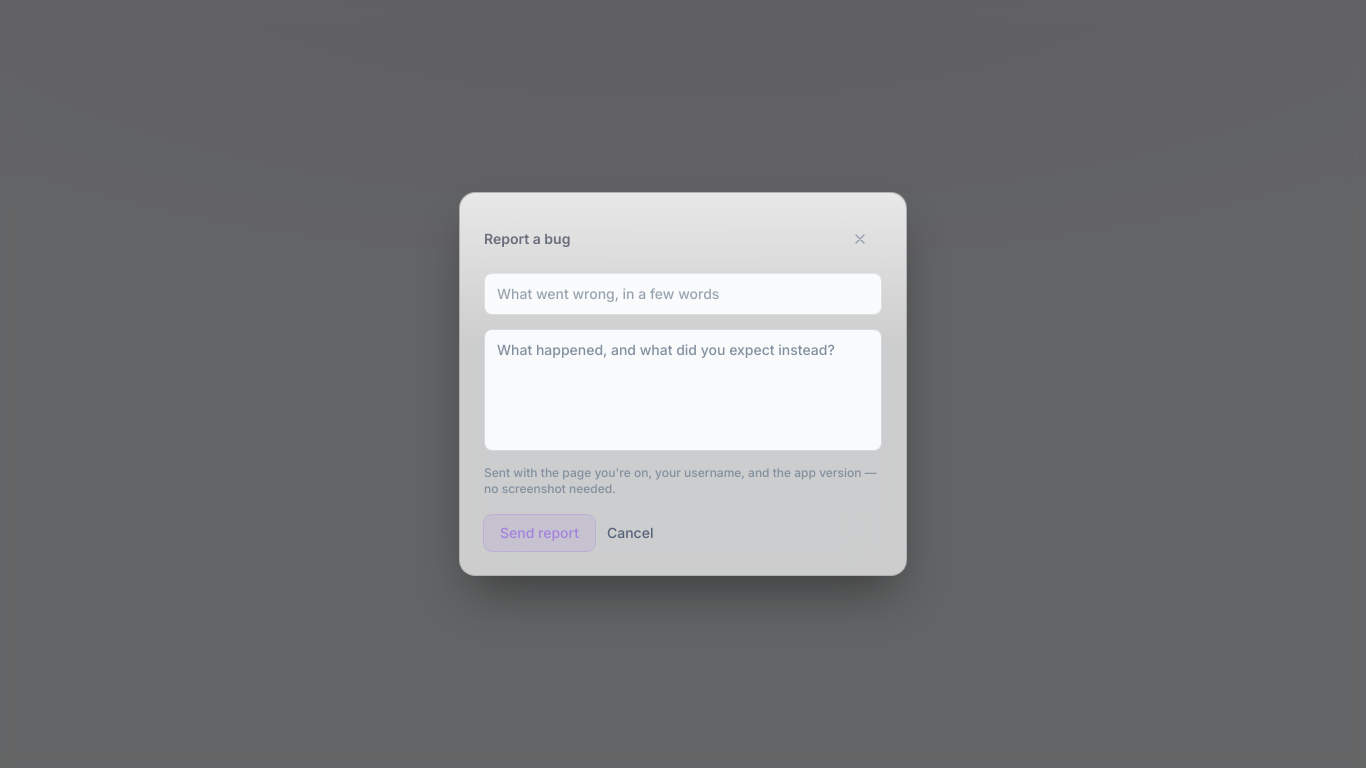
Test: ReportBugPanel › submits and shows the success screen with the issue link
Step 1. Type "Title" into the field named "Bug title" → (683, 294), box [484, 273, 882, 315]
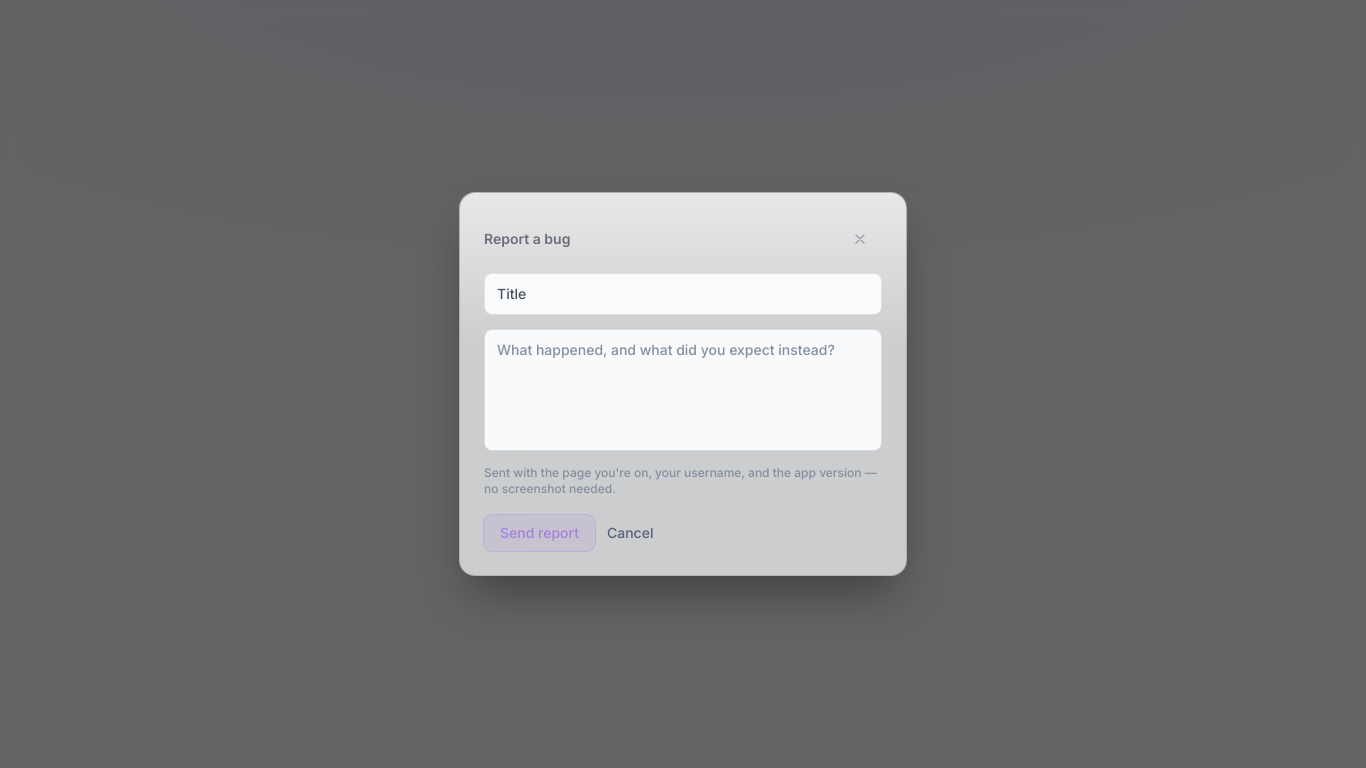
Step 2. Type "Description" into the text box named "Bug description" → (683, 390), box [484, 329, 882, 451]
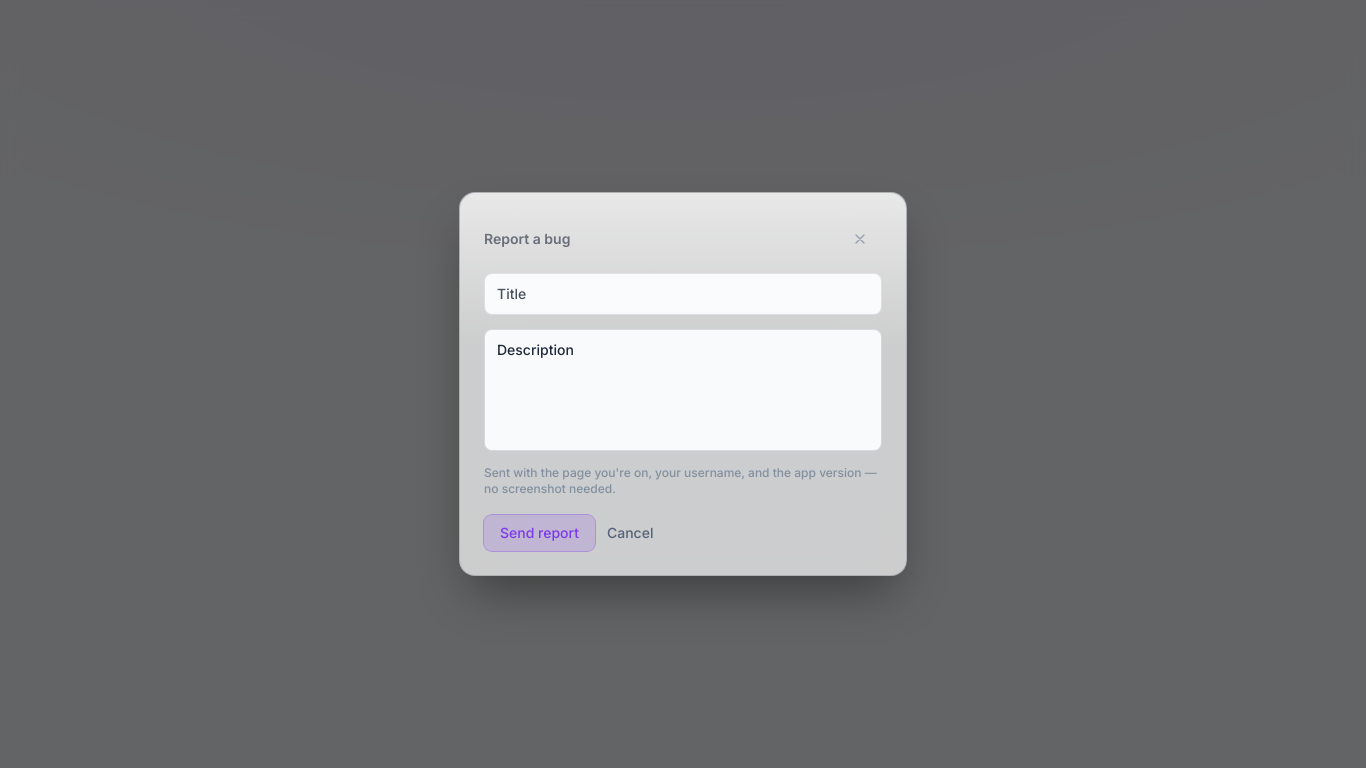
Step 3. Click the button "Send report" → (540, 533), box [484, 515, 595, 551]
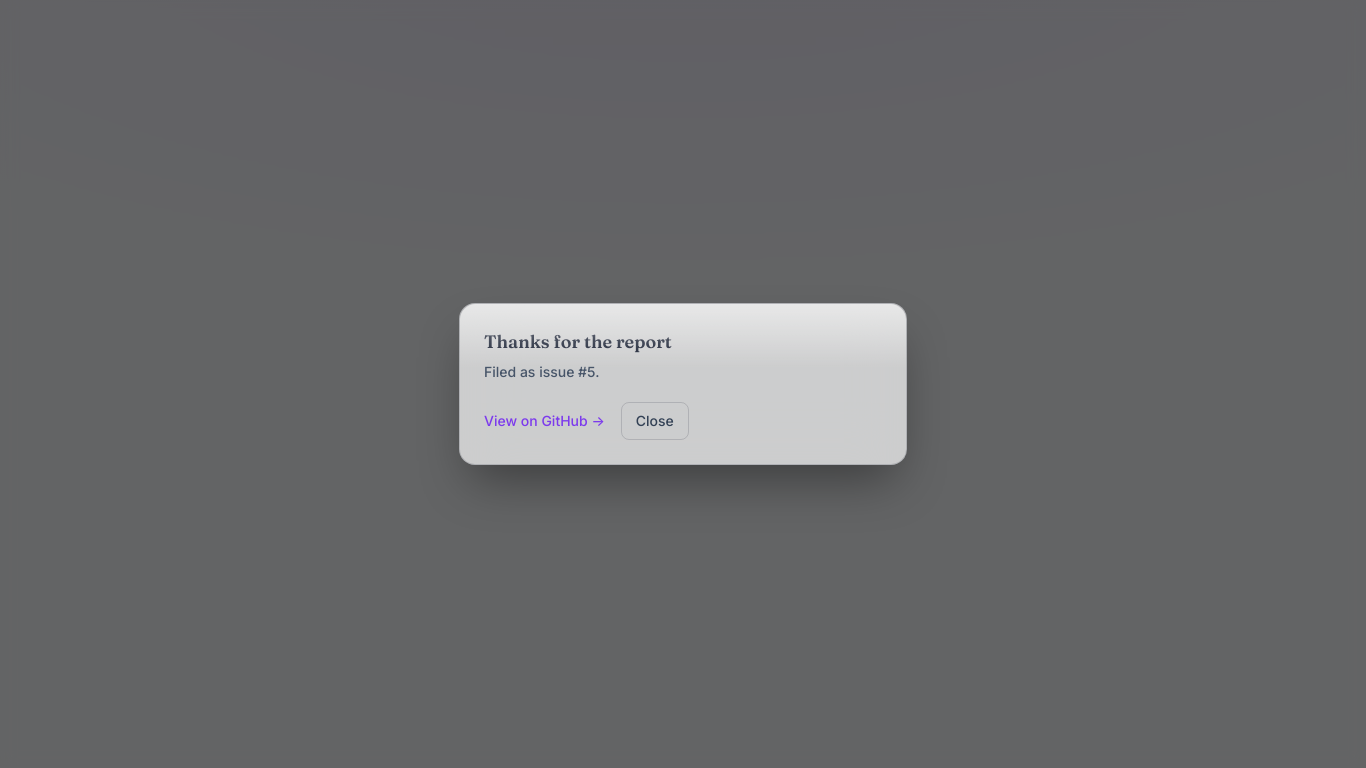
Result: the text "Filed as issue #5." is shown at [484, 363, 599, 380]
